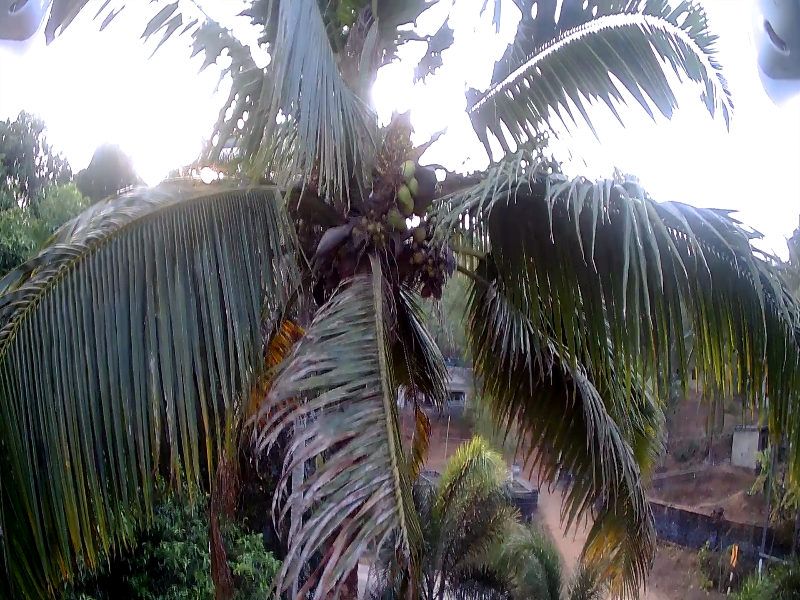coconut: (385, 207, 403, 233), (401, 179, 422, 195), (398, 161, 413, 181), (395, 190, 410, 207), (415, 227, 426, 241), (409, 249, 420, 263)
